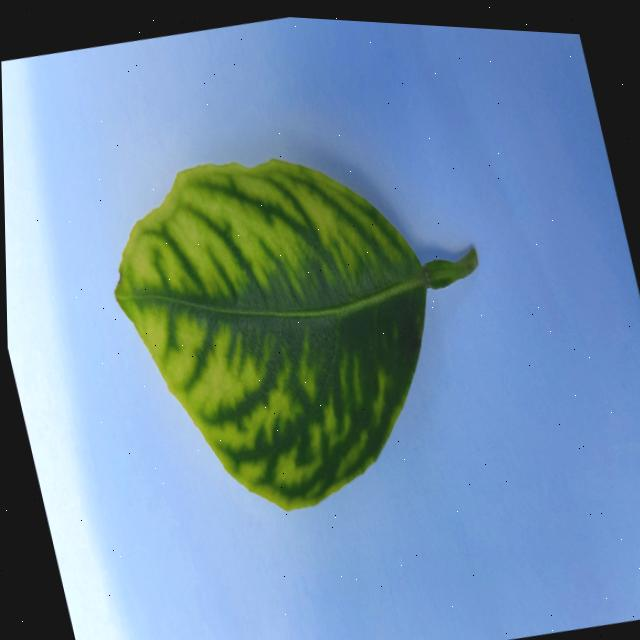greening: (114, 160, 476, 509)
